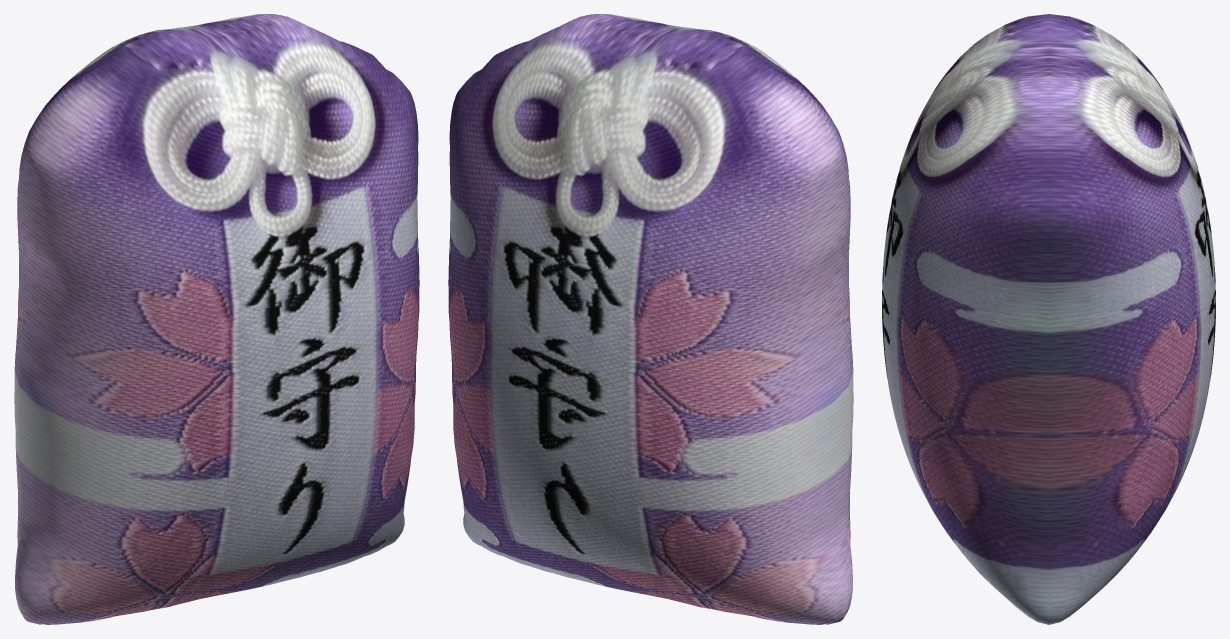
The model's file is mm_amulet-v1.glb.
3 views of the same model, side by side, from view 1: azimuth 30°, elevation 25°; view 2: azimuth 150°, elevation 25°; view 3: azimuth 270°, elevation 25° (orthographic). The views are drawn at different scales.
Visible parts, largest first — view 1: 977197c4-0391-4f01-a1ed-904d0bb87d62; view 2: 977197c4-0391-4f01-a1ed-904d0bb87d62; view 3: 977197c4-0391-4f01-a1ed-904d0bb87d62.
Boxes of the visible parts, x1,y1,x2,y2 form: 977197c4-0391-4f01-a1ed-904d0bb87d62: (14, 14, 419, 624); 977197c4-0391-4f01-a1ed-904d0bb87d62: (448, 14, 853, 624); 977197c4-0391-4f01-a1ed-904d0bb87d62: (882, 14, 1215, 624).
Size of the model in its own units: 3.62 by 4.96 by 2.97.
1 material, 1 textured.
